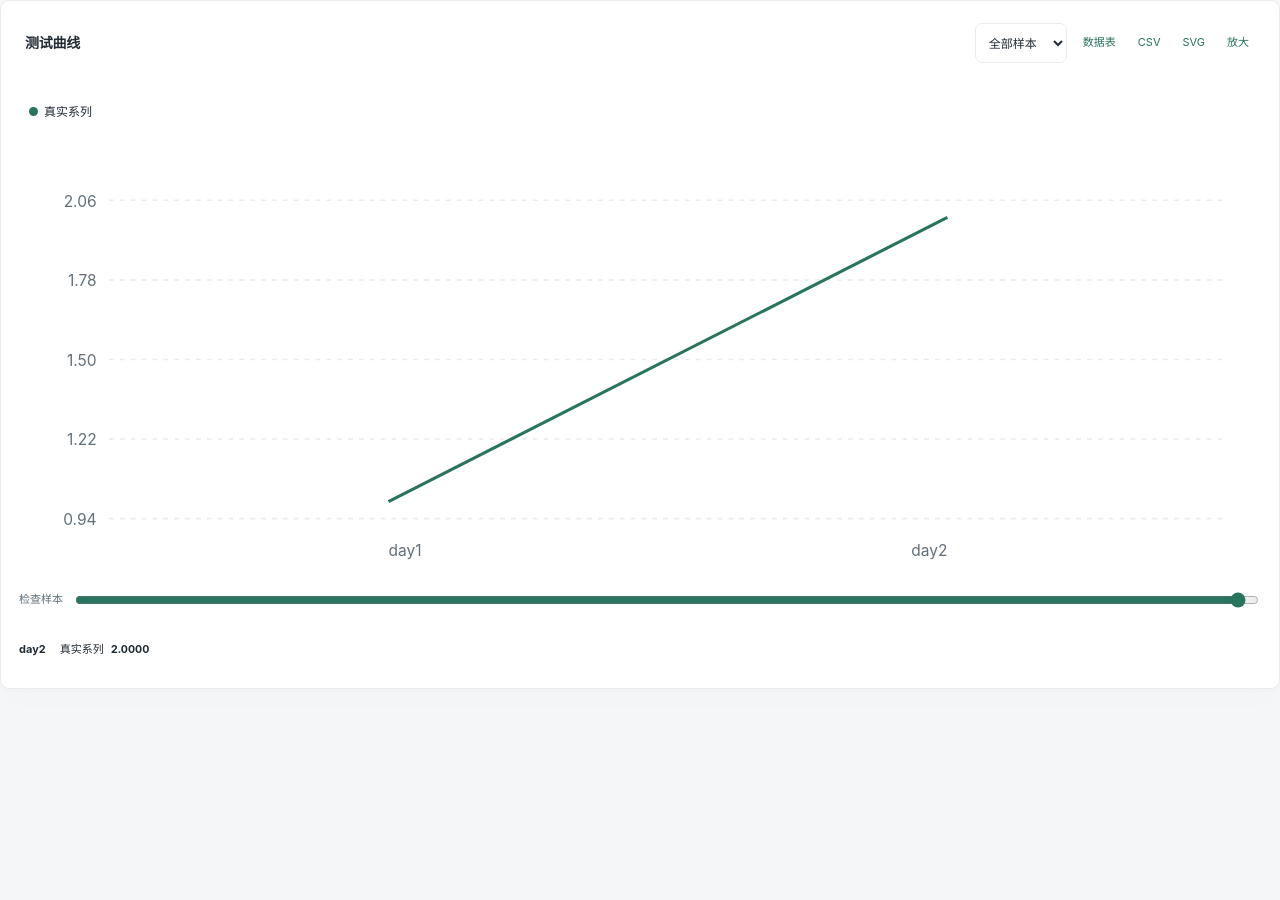
Test: lets keyboard users inspect data and switch to its table
Set the slider to "0" at (83, 600), box [75,580,1259,620]
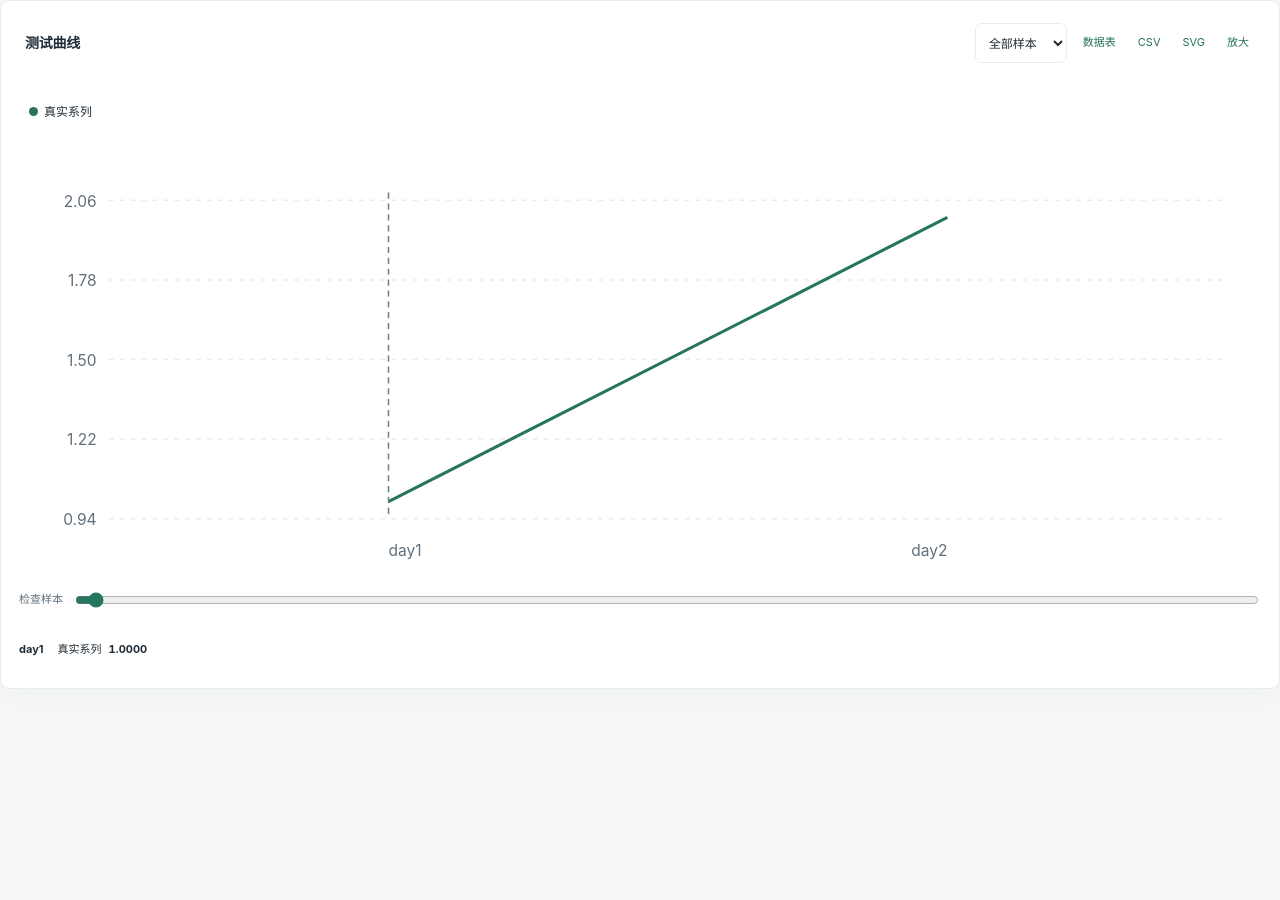
Check: the text "day1" is shown, box [19,641,44,659]
Click the button "数据表" at (1099, 43), box [1077,27,1122,59]
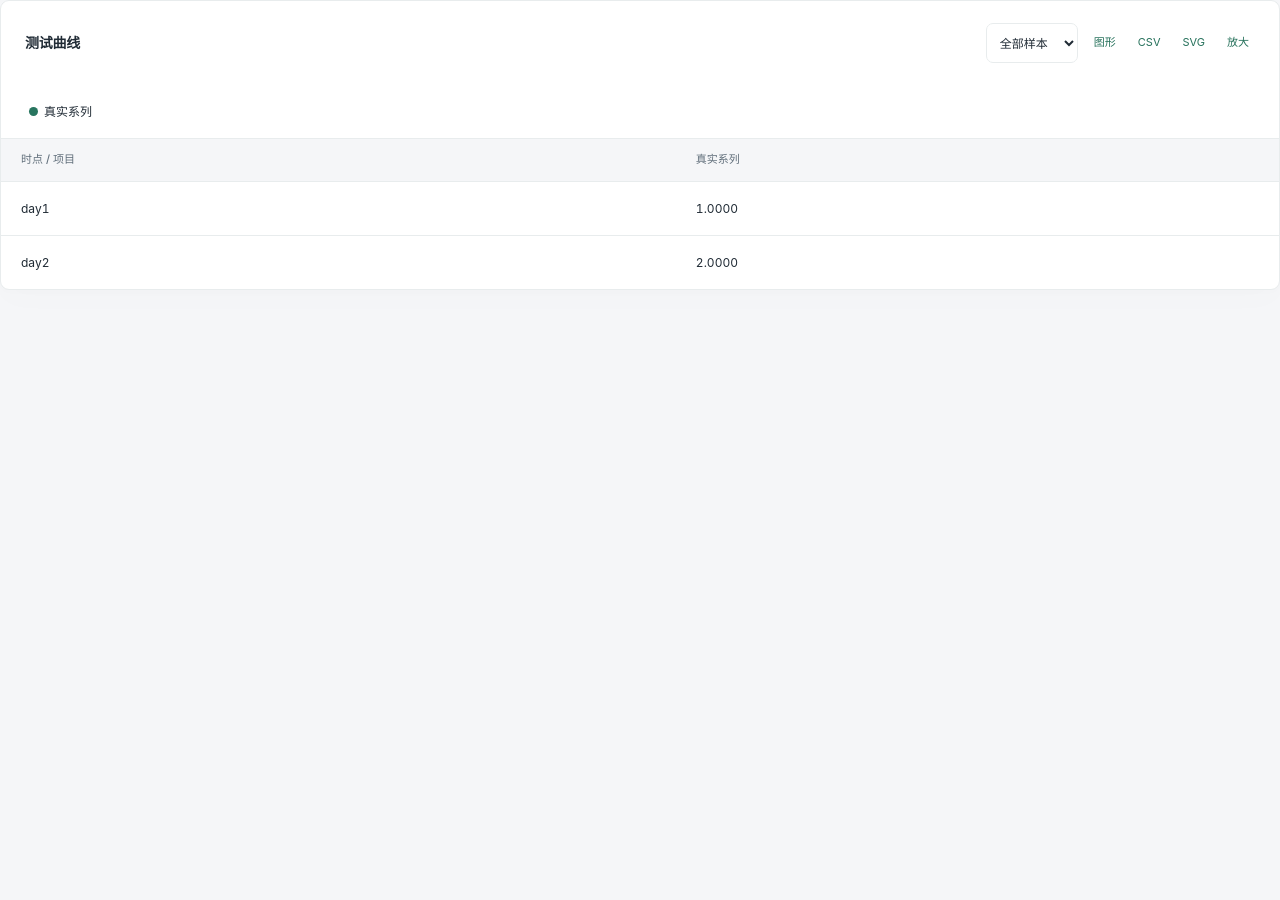
Check: the table is shown, box [1,138,1279,289]
